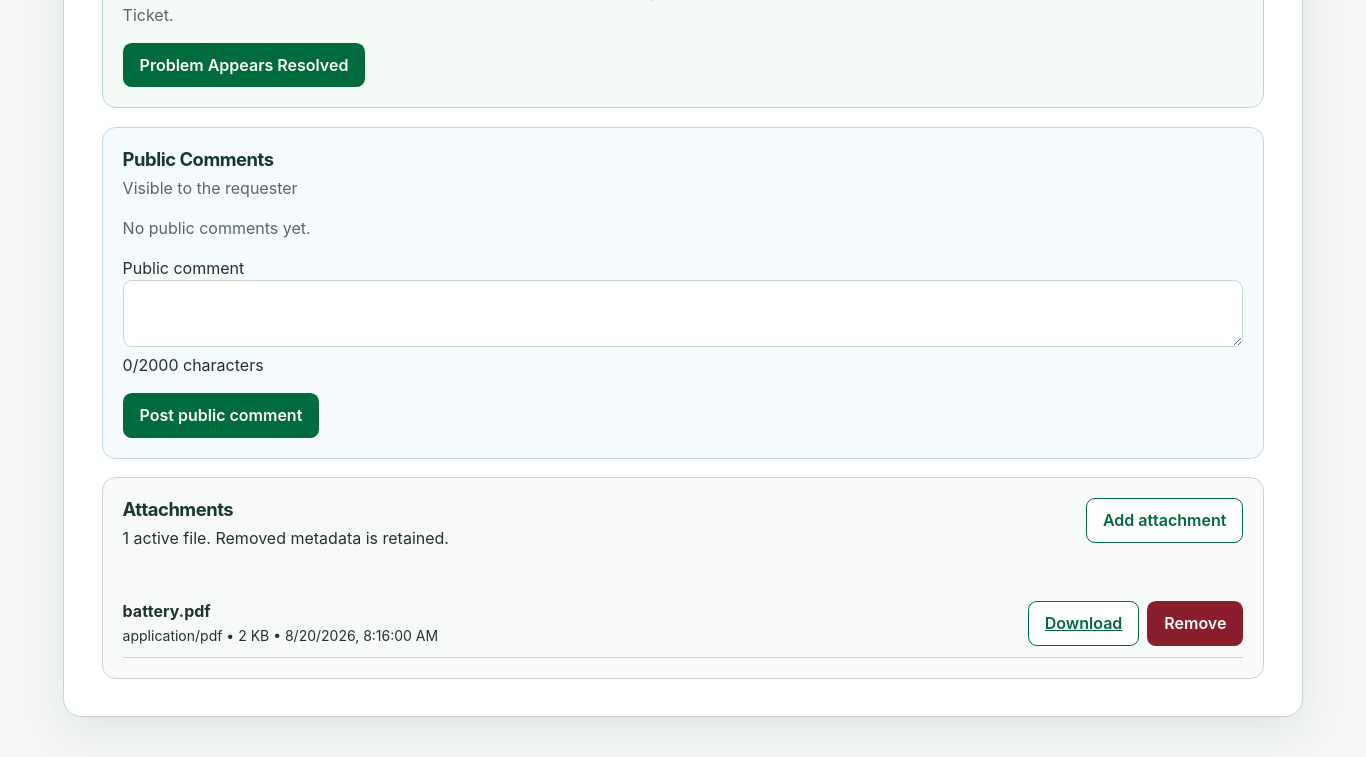
Test case: Ticket Detail › reports a failed removal and leaves the active download available
(page scrolled)
Check: the text "battery.pdf" is shown, box [123,601,211,621]
Click the button "Remove".
click(1195, 623)  # box [1147,601,1243,646]
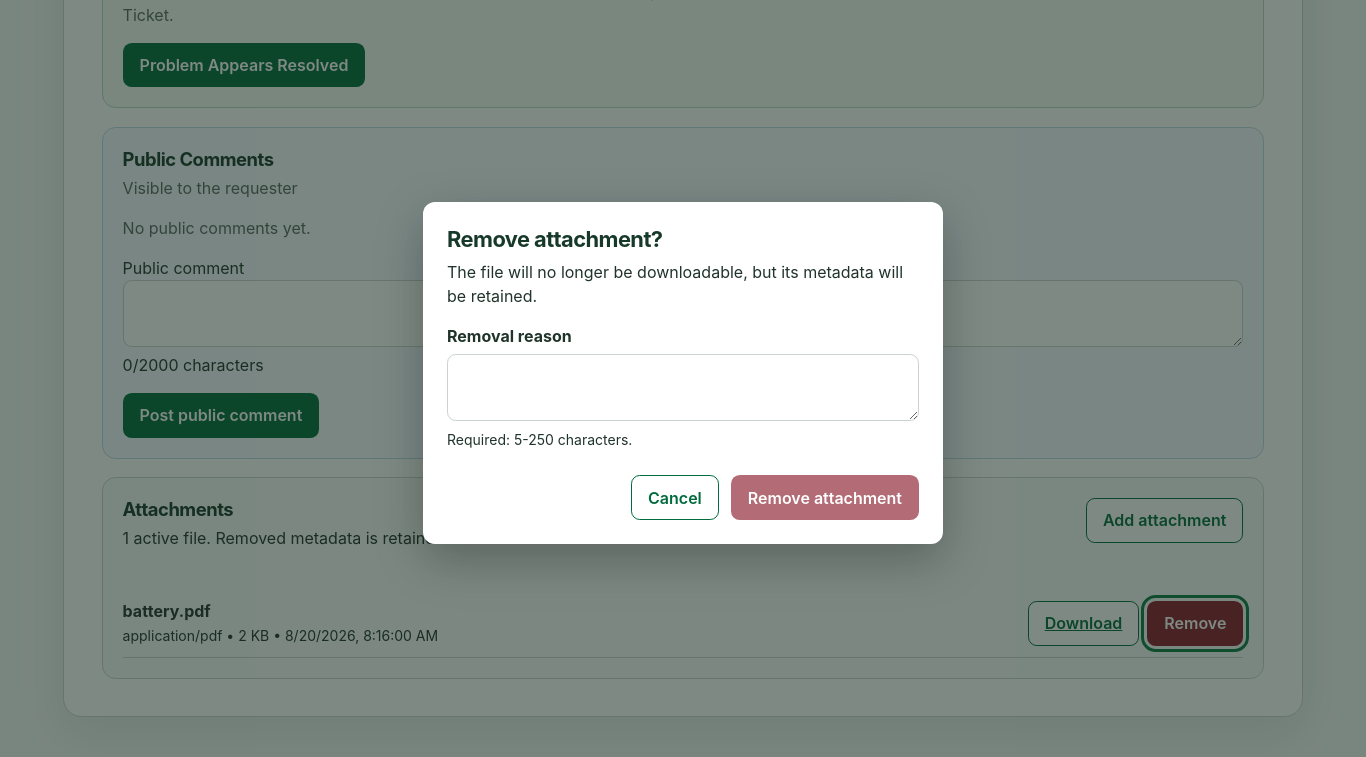
Type "Keep the original active file" into the text box labelled "Removal reason".
click(683, 388); type("Keep the original active file")  # box [447,354,919,421]
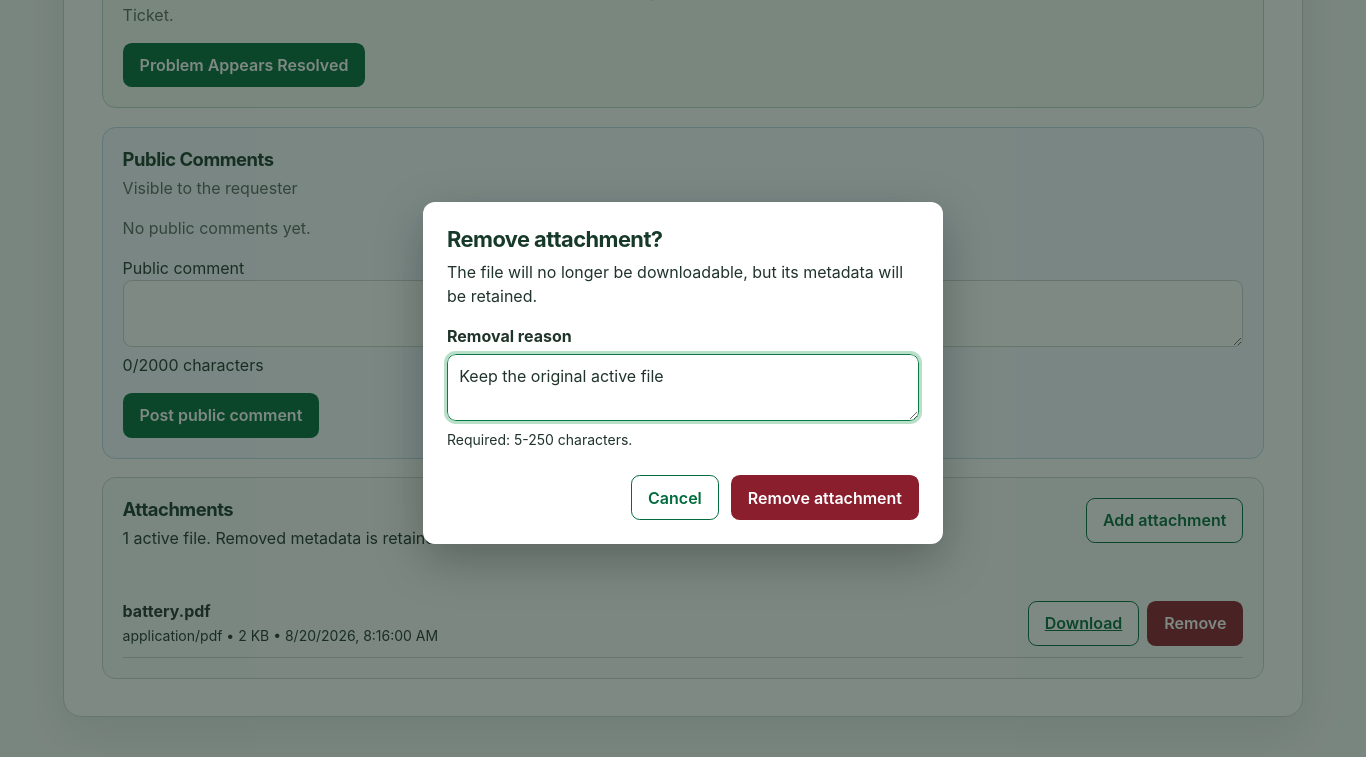
Click the button "Remove attachment".
click(825, 498)  # box [731,475,919,520]
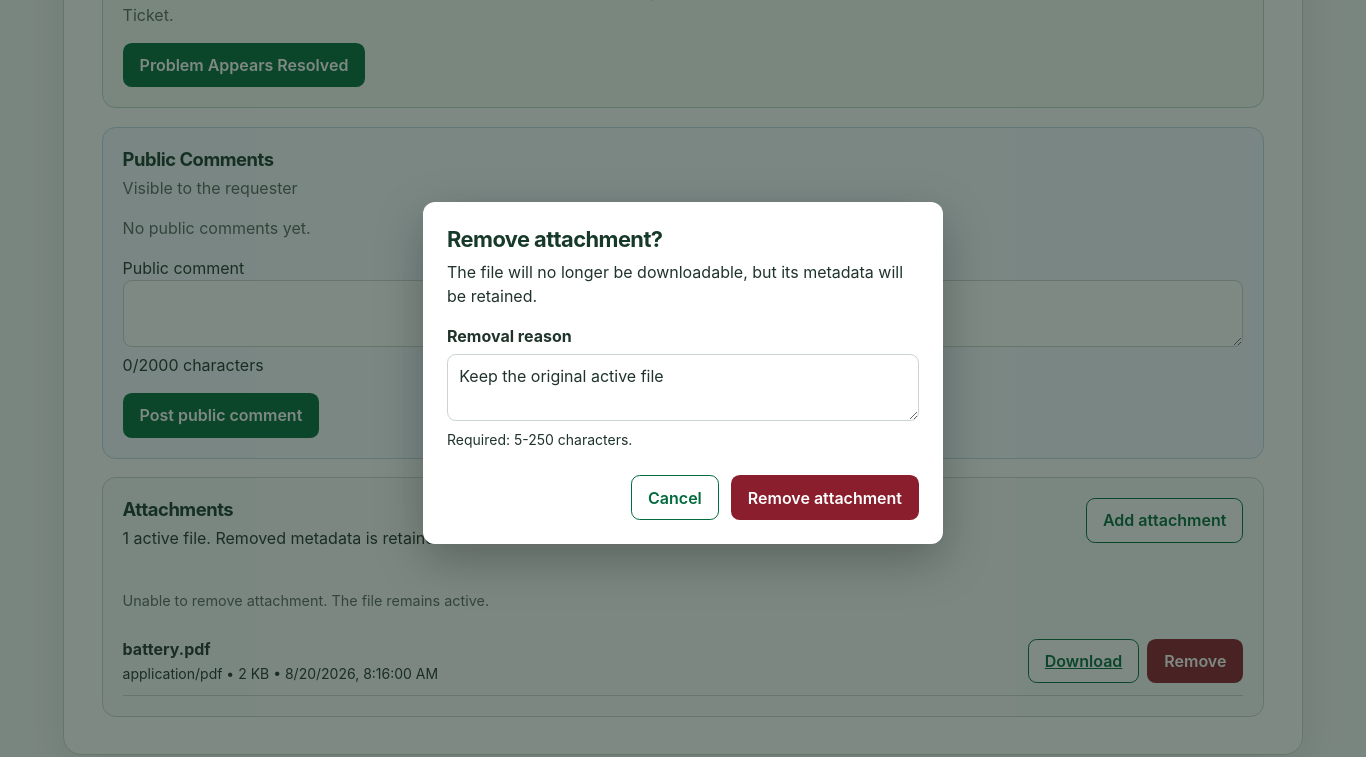
Check: the link "Download" is shown, box [1028,639,1139,683]
Check: the message shows "Unable to remove attachment", box [123,592,489,609]
